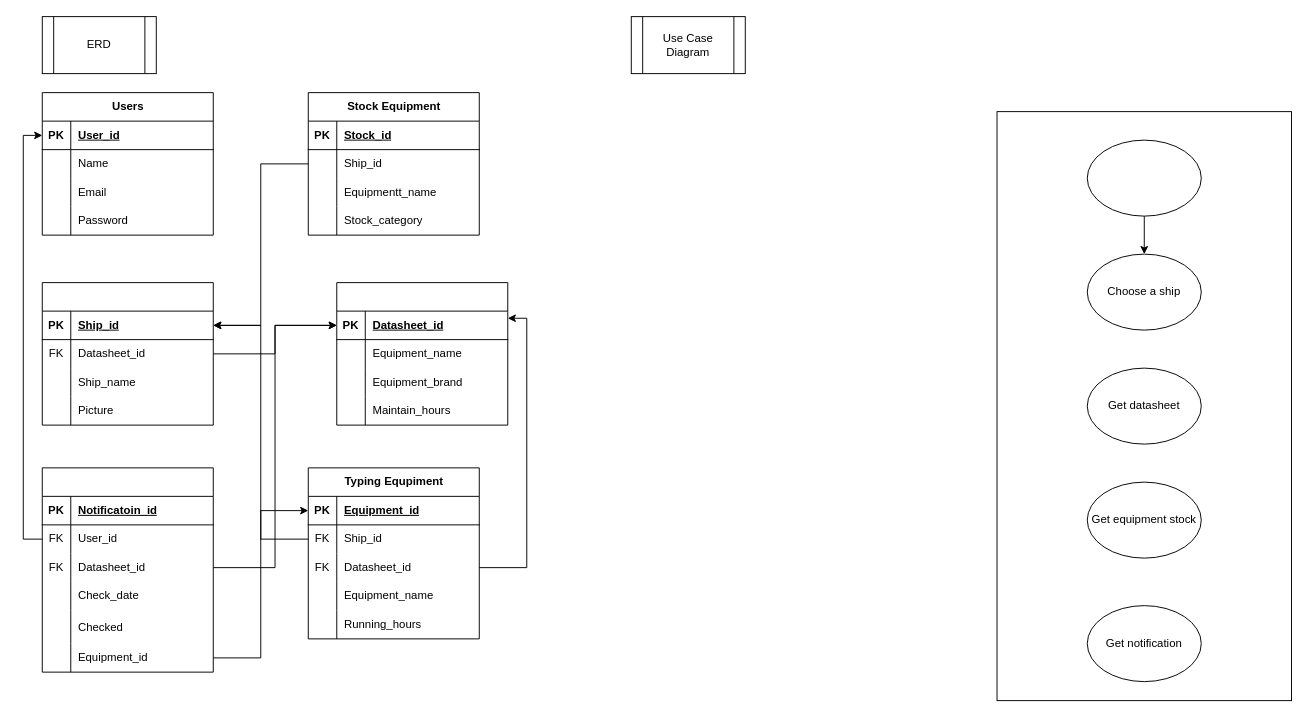
Some shapes in this 1308 by 717 pixel diagram are drawn without their labels. The box of each missing label's shape, as (x1, y1, x2, y2) in pixels:
Equipment Datasheet: (336, 282, 508, 425)
Login: (1086, 139, 1201, 216)
Notification: (41, 467, 213, 672)
Ships: (41, 282, 213, 425)
